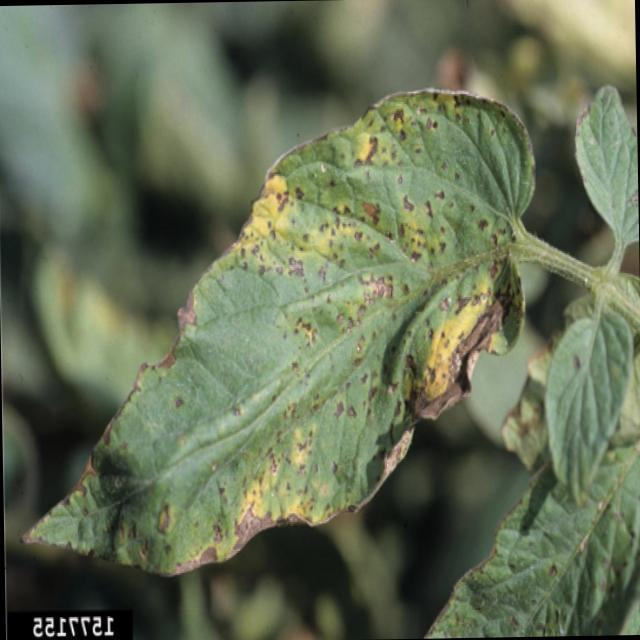Bacterial Spot: (212, 69, 530, 550)
